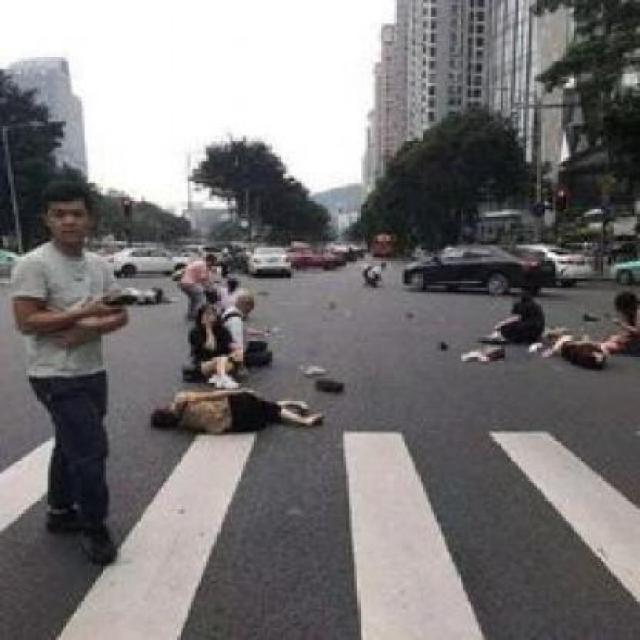fall: (180, 293, 240, 381)
